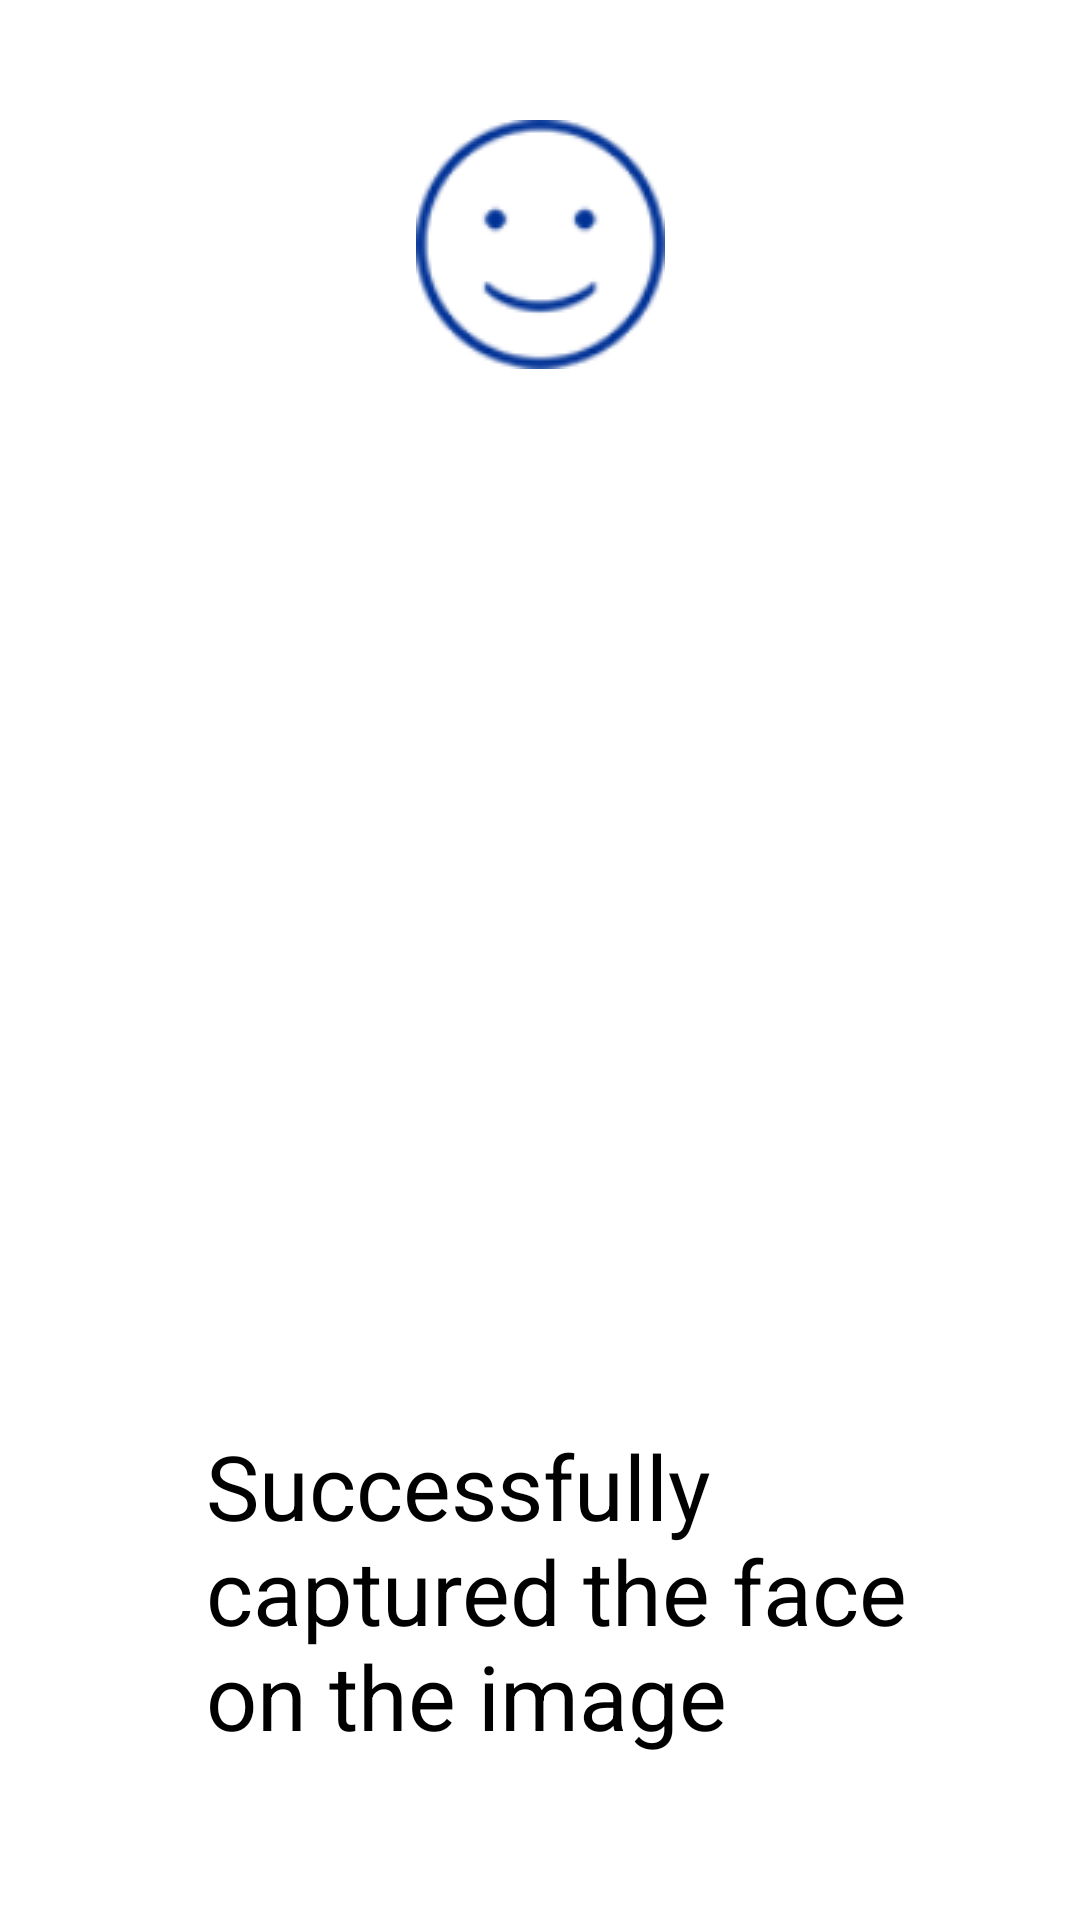

Locate icon controls on the screen. Image size 1080px x 1920px, boxes as (x1, y1, x2, y2).
happy: (416, 120, 665, 369)
